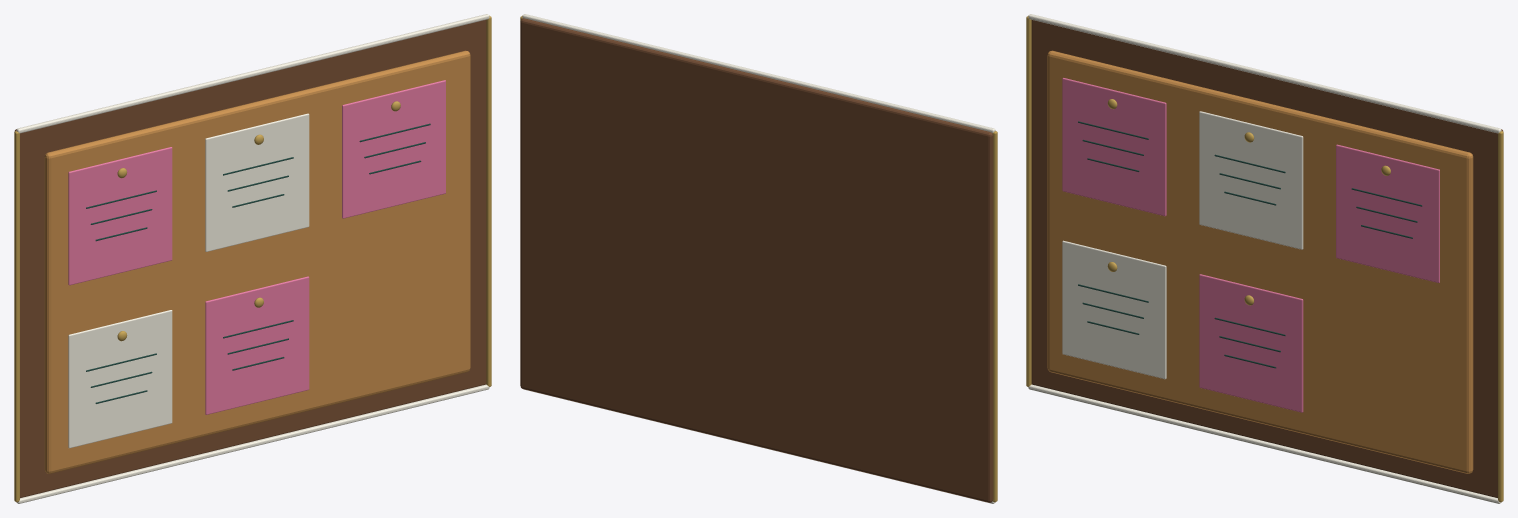
The model's file is notice_board.glb.
3 views of the same model, side by side, from view 1: azimuth 30°, elevation 25°; view 2: azimuth 150°, elevation 25°; view 3: azimuth 330°, elevation 25° (orthographic).
Parts seen in each view (by area): view 1: Cork, Recessed_panel, Pinned_note.001, Pinned_note.004, Pinned_note.003, Pinned_note, Pinned_note.002, Inset_horizontal_bead.001, Inset_horizontal_bead, Inset_vertical_bead, Inset_vertical_bead.001; view 2: Recessed_panel, Inset_horizontal_bead.001, Inset_vertical_bead; view 3: Cork, Recessed_panel, Pinned_note.001, Pinned_note.003, Pinned_note.004, Pinned_note, Pinned_note.002, Inset_horizontal_bead.001, Inset_horizontal_bead, Inset_vertical_bead.001, Inset_vertical_bead.
Boxes of the visible parts, box(x1,y1,x2,y2) form: Cork: box(44, 50, 470, 473); Recessed_panel: box(14, 20, 486, 497); Pinned_note.001: box(205, 113, 309, 251); Pinned_note.004: box(205, 276, 309, 414); Pinned_note.003: box(68, 310, 172, 448); Pinned_note: box(68, 147, 172, 285); Pinned_note.002: box(342, 80, 445, 218); Inset_horizontal_bead.001: box(16, 14, 489, 133); Inset_horizontal_bead: box(17, 384, 489, 503); Inset_vertical_bead: box(14, 131, 19, 502); Inset_vertical_bead.001: box(486, 15, 491, 386); Recessed_panel: box(520, 18, 993, 502); Inset_horizontal_bead.001: box(522, 14, 995, 132); Inset_vertical_bead: box(992, 131, 997, 502); Cork: box(1047, 50, 1473, 473); Recessed_panel: box(1031, 20, 1503, 497); Pinned_note.001: box(1199, 111, 1303, 249); Pinned_note.003: box(1062, 240, 1166, 379); Pinned_note.004: box(1199, 274, 1303, 412); Pinned_note: box(1062, 78, 1166, 216); Pinned_note.002: box(1336, 144, 1439, 282); Inset_horizontal_bead.001: box(1028, 14, 1501, 133); Inset_horizontal_bead: box(1028, 384, 1500, 503); Inset_vertical_bead.001: box(1498, 131, 1503, 502); Inset_vertical_bead: box(1026, 15, 1031, 386).
Bounding box in the file's own units: 1.01 × 0.759 × 0.059.
